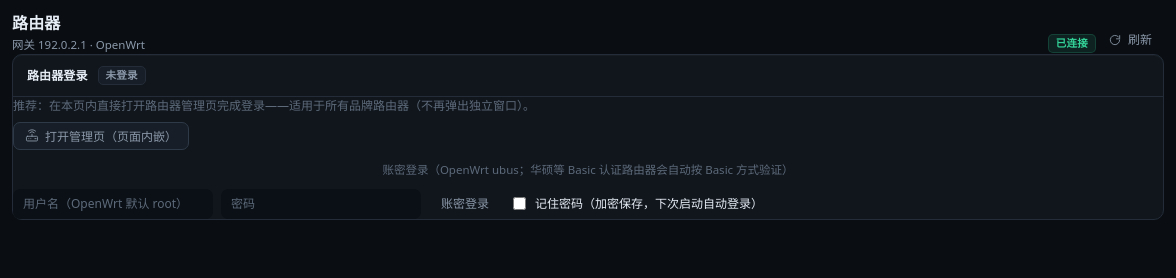
it: RouterView 会话与账密登录 › 登录 settings 失败不得清密码或显示成功，允许重试
In the field with placeholder "用户名（OpenWrt 默认 root）": {"x": 113, "y": 204} x1=13 y1=189 x2=213 y2=219, type " root "
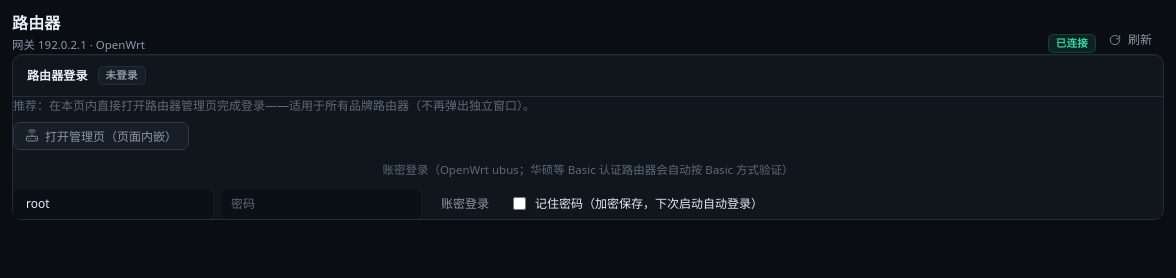
In the password field with placeholder "密码": {"x": 321, "y": 204} x1=221 y1=189 x2=421 y2=219, type "test-only-password"
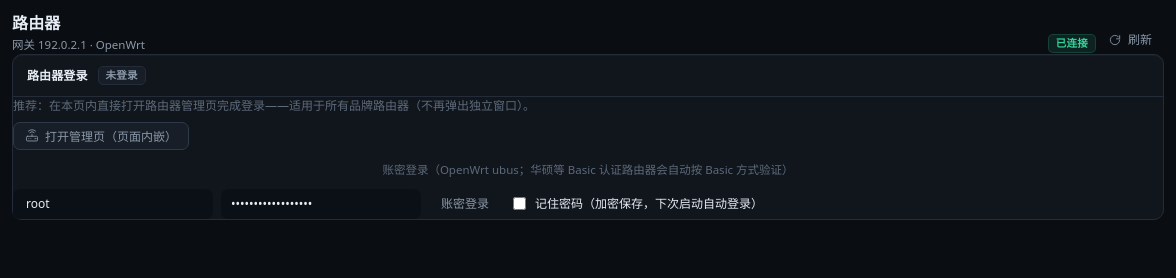
Click the button "账密登录": {"x": 465, "y": 204} x1=429 y1=190 x2=501 y2=218
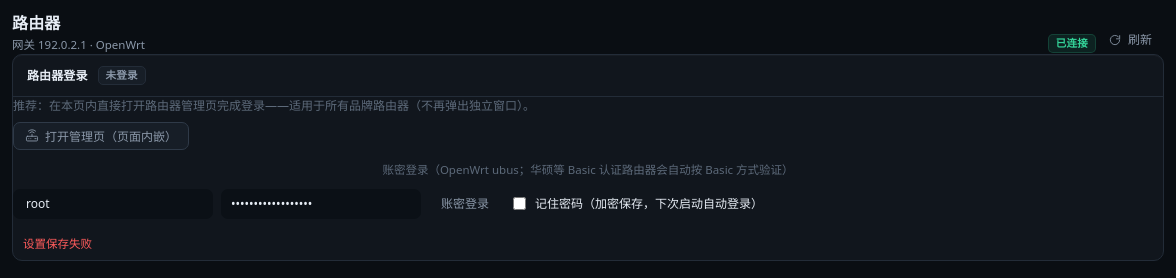
expect the text "未登录" is shown: met, box x1=98 y1=66 x2=146 y2=85
expect the text "设置保存失败" is shown: met, box x1=23 y1=236 x2=92 y2=251
